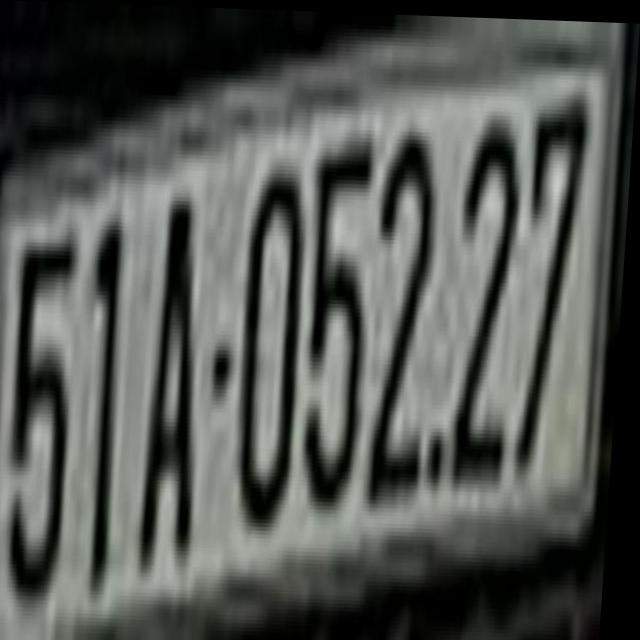0: (234, 151, 313, 541)
1: (78, 209, 142, 614)
2: (446, 107, 530, 493), (366, 124, 447, 510)
5: (300, 122, 380, 535), (4, 215, 88, 604)
7: (518, 93, 592, 487)
A: (140, 194, 222, 604)
